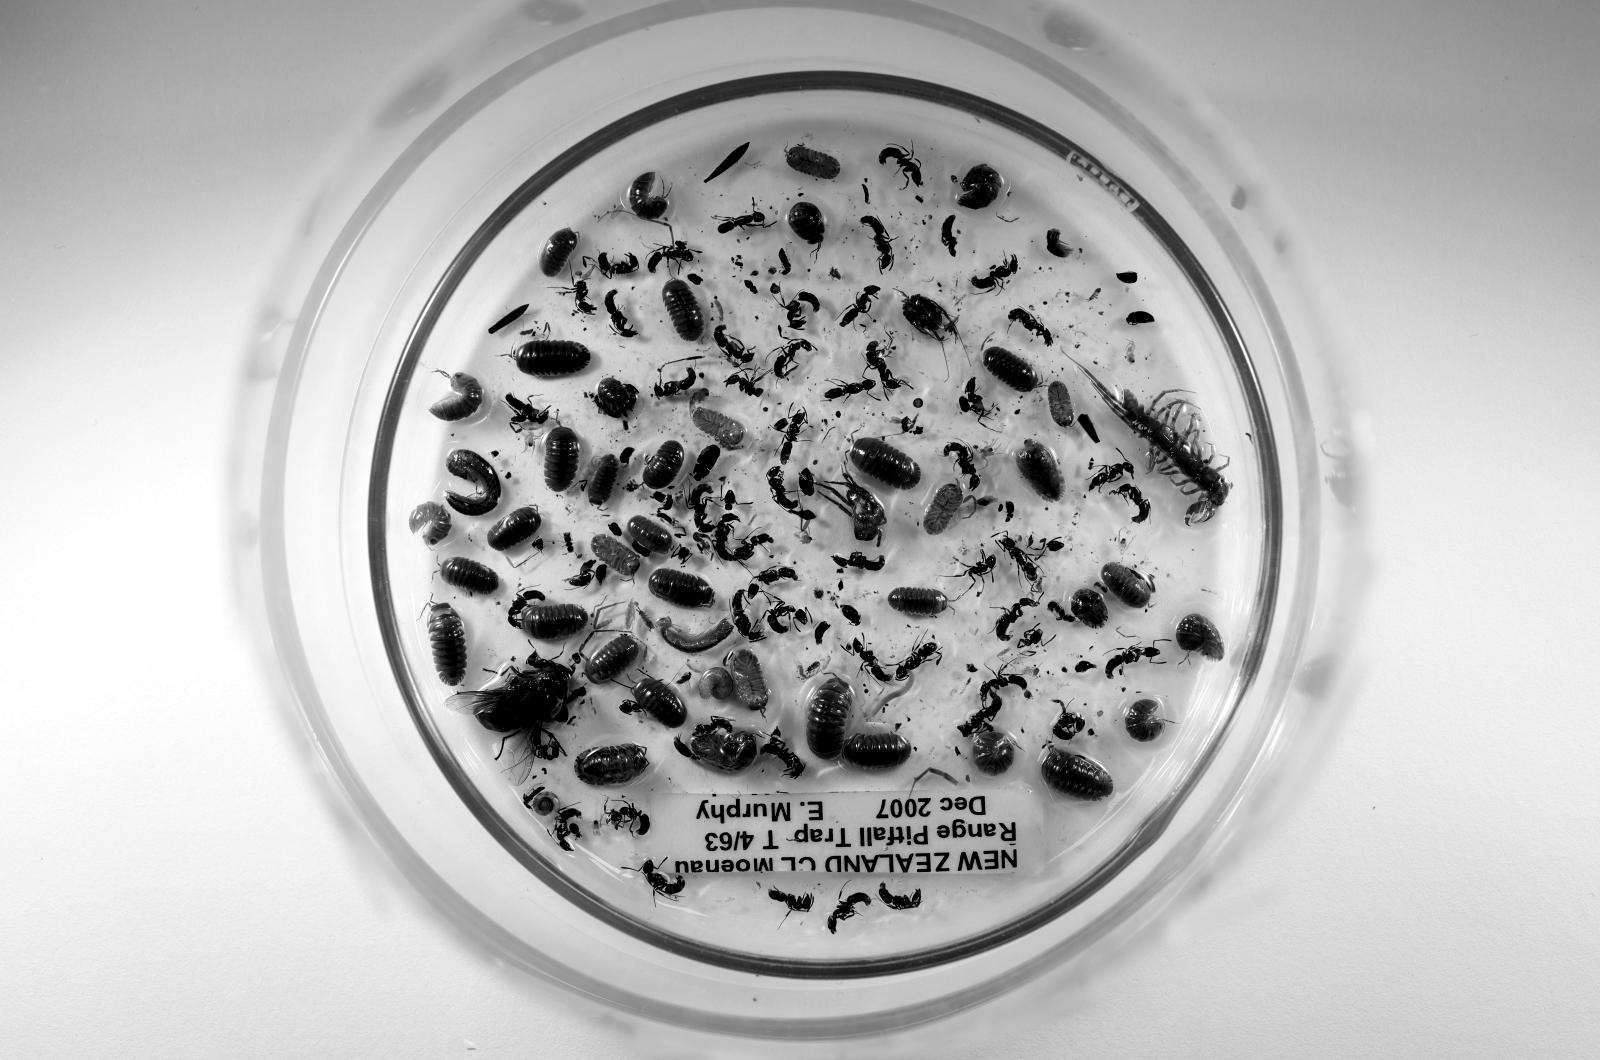acari: (569, 823, 582, 839)
araneae: (816, 468, 887, 541), (972, 441, 1000, 459)
chilopoda: (1084, 369, 1229, 525)
coleoptera: (694, 444, 719, 481), (799, 468, 816, 497), (1125, 310, 1153, 327), (841, 606, 860, 627), (1003, 500, 1016, 522), (744, 279, 759, 295)
collembola: (626, 600, 637, 634), (637, 608, 653, 631)
diplopoda: (447, 451, 500, 516), (869, 674, 915, 717)
diptera: (443, 661, 572, 786), (778, 239, 797, 273), (687, 388, 710, 413), (522, 786, 546, 807), (675, 671, 694, 690), (890, 416, 913, 432)
formicidae: (866, 342, 913, 394), (763, 730, 807, 780), (1103, 642, 1159, 680), (860, 214, 894, 273), (957, 692, 1003, 736), (850, 640, 894, 684), (993, 596, 1037, 640), (828, 891, 872, 935), (944, 441, 982, 491), (894, 640, 940, 680), (647, 237, 697, 273), (879, 146, 922, 187), (713, 323, 753, 367), (1010, 308, 1054, 348), (997, 537, 1037, 581), (972, 254, 1018, 292), (747, 565, 797, 600), (731, 590, 763, 642), (506, 394, 550, 432), (641, 860, 685, 898), (772, 338, 812, 379), (841, 286, 881, 327), (765, 466, 799, 512), (603, 289, 634, 338), (765, 600, 809, 634), (607, 801, 650, 835), (506, 590, 546, 627), (1088, 459, 1134, 491), (982, 665, 1028, 696), (782, 409, 807, 466), (559, 277, 597, 314), (653, 367, 697, 397), (1113, 485, 1149, 522), (769, 888, 816, 916), (959, 379, 991, 419), (784, 292, 818, 329), (553, 807, 582, 851), (713, 512, 738, 562), (959, 552, 997, 584), (687, 485, 713, 531), (719, 211, 772, 233), (879, 883, 922, 910), (1054, 705, 1084, 742), (825, 379, 875, 401), (597, 252, 641, 277), (734, 535, 772, 562), (831, 552, 885, 571), (725, 373, 763, 397), (1047, 600, 1078, 625), (694, 717, 734, 736), (1010, 652, 1031, 665)
gastropoda: (697, 667, 734, 702), (529, 789, 563, 816)
isopoda: (807, 674, 853, 761), (1041, 749, 1113, 801), (850, 438, 919, 491), (575, 742, 650, 786), (721, 649, 769, 717), (428, 602, 466, 686), (691, 730, 759, 776), (1016, 441, 1065, 503), (841, 730, 913, 770), (634, 677, 687, 730), (584, 634, 641, 684), (510, 342, 590, 376), (519, 602, 588, 642), (662, 279, 706, 342), (650, 568, 715, 608), (982, 348, 1037, 394), (544, 426, 582, 491), (432, 373, 485, 419), (1103, 562, 1157, 608), (487, 506, 540, 550), (1175, 615, 1225, 661), (694, 407, 744, 451), (441, 556, 500, 593), (590, 535, 641, 577), (643, 441, 685, 491), (957, 164, 1003, 208), (972, 730, 1016, 776), (784, 146, 841, 180), (887, 587, 950, 618), (628, 170, 666, 220), (540, 227, 578, 277), (925, 485, 963, 535), (409, 503, 451, 547), (1125, 699, 1166, 742), (588, 453, 618, 506), (788, 202, 825, 245), (628, 516, 672, 552), (1071, 590, 1109, 627), (1047, 382, 1075, 428)
opiliones: (903, 295, 957, 342)
